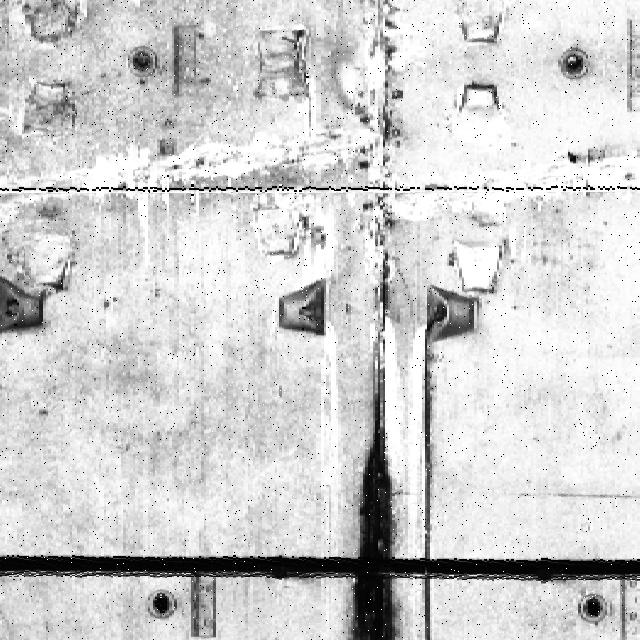leakage: (334, 357, 410, 640)
